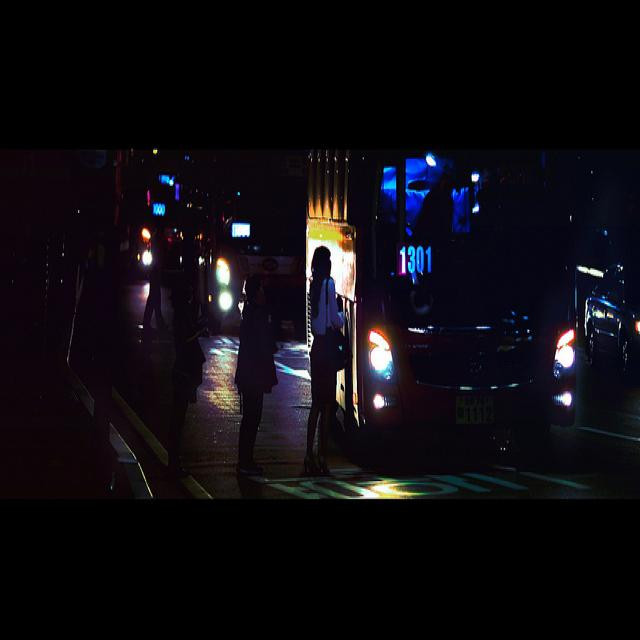Bus: (300, 137, 581, 470)
People: (57, 216, 132, 503), (299, 212, 356, 493), (164, 232, 213, 465), (232, 240, 272, 451), (137, 227, 165, 370)
car: (206, 166, 303, 338), (581, 244, 640, 415)
